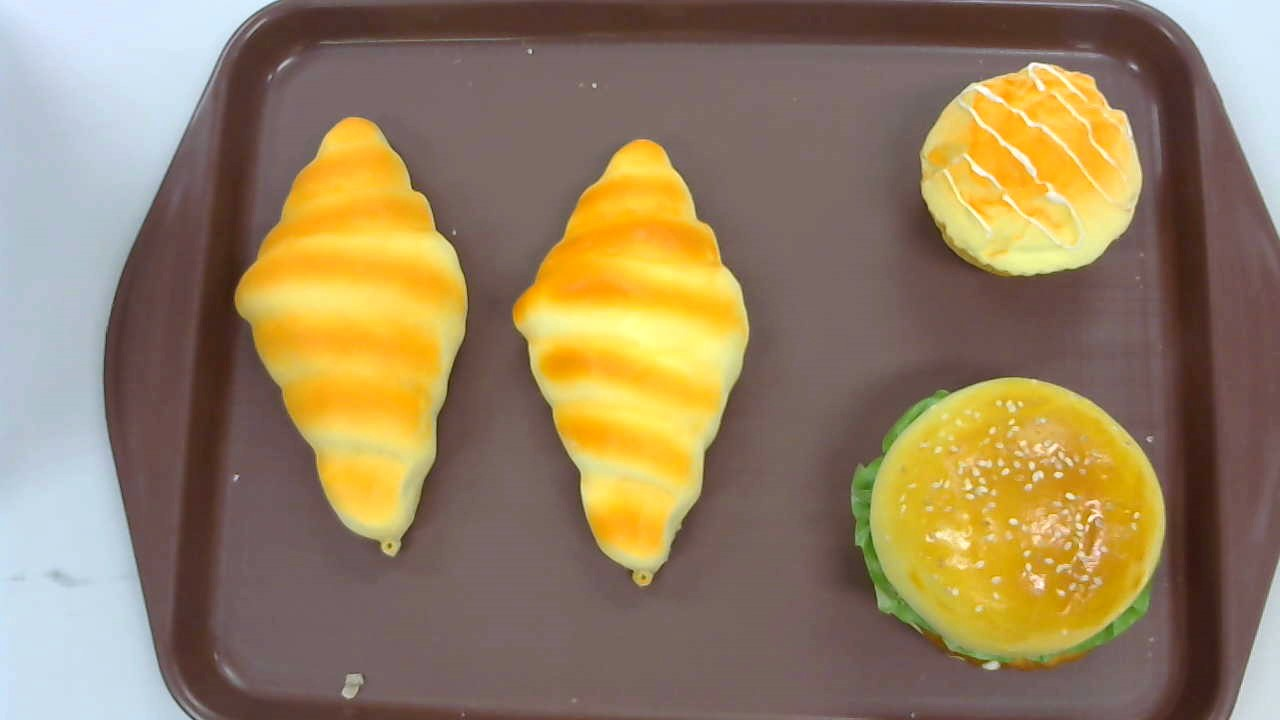croissant: (512, 137, 749, 589), (235, 114, 469, 557)
cupcake: (919, 61, 1144, 278)
hamburger: (850, 376, 1165, 672)
